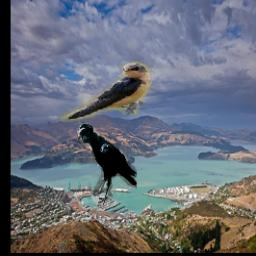Crow: (77, 123, 137, 206)
Swallow: (59, 58, 152, 122)
